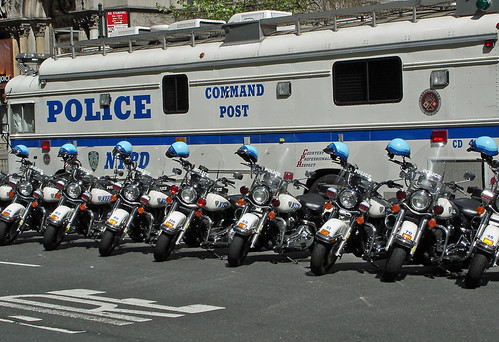helmet: (462, 133, 494, 155), (383, 133, 409, 157), (111, 138, 136, 156), (232, 142, 258, 159), (324, 140, 348, 157), (163, 139, 187, 155), (56, 141, 78, 156), (10, 141, 28, 156)
